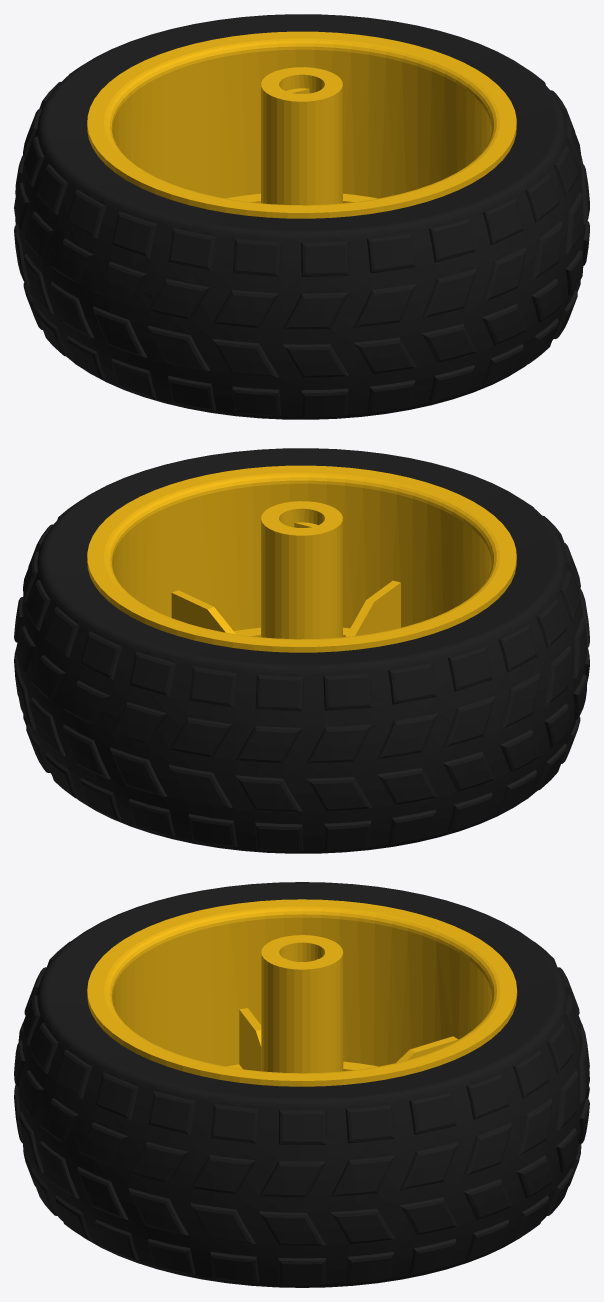
Rendered from wheel_colours.dae.
The picture shows the model from 3 angles, top to bottom: view 1: azimuth 30°, elevation 25°; view 2: azimuth 150°, elevation 25°; view 3: azimuth 270°, elevation 25°; orthographic projection.
Parts seen in each view (by area): view 1: wheel; view 2: wheel; view 3: wheel.
Boxes of the visible parts, x1,y1,x2,y2 form: wheel: (14, 14, 589, 419); wheel: (14, 448, 589, 853); wheel: (14, 882, 589, 1287).
Size of the model in its own units: 0.0689 by 0.0689 by 0.03.
